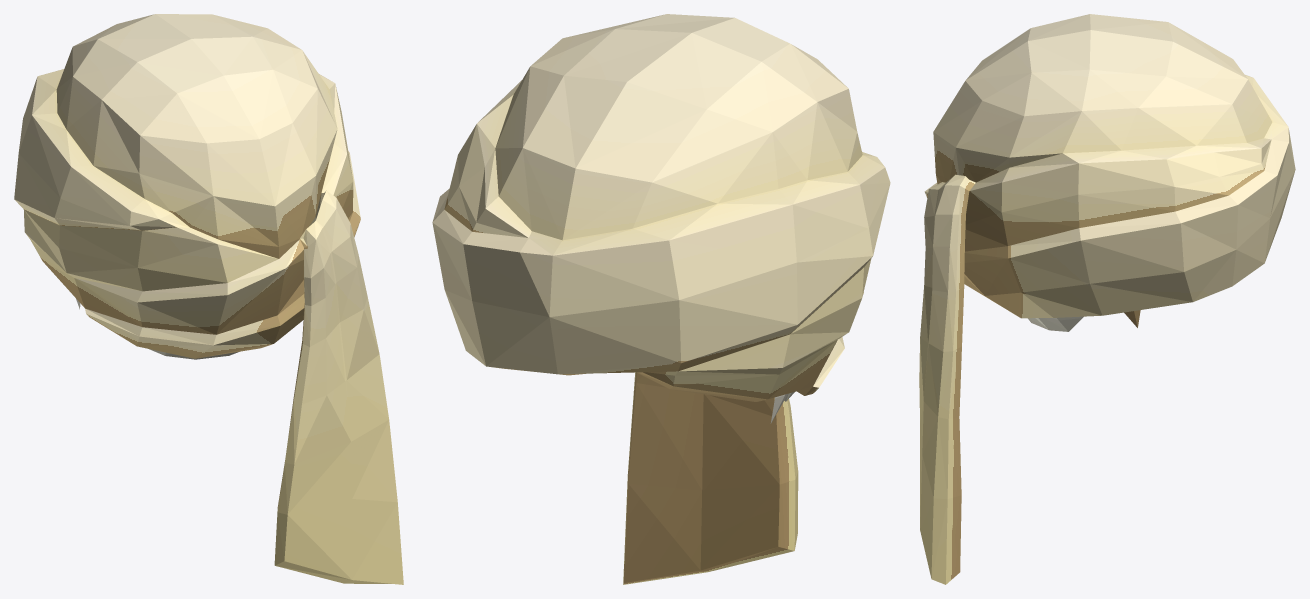
File: CharSkyKid_Hair_AP21Turban.glb
The picture shows the model from 3 angles, left to right: view 1: azimuth 30°, elevation 25°; view 2: azimuth 150°, elevation 25°; view 3: azimuth 270°, elevation 25°; orthographic projection. The views are drawn at different scales.
Parts seen in each view (by area): view 1: CharSkyKid_Hair_AP21Turban; view 2: CharSkyKid_Hair_AP21Turban; view 3: CharSkyKid_Hair_AP21Turban.
Part boxes in pixels (x1=…): CharSkyKid_Hair_AP21Turban: x1=14, y1=14, x2=403, y2=584; CharSkyKid_Hair_AP21Turban: x1=432, y1=14, x2=890, y2=584; CharSkyKid_Hair_AP21Turban: x1=919, y1=14, x2=1295, y2=584.
Bounding box in the file's own units: 3.02 × 5.13 × 3.54.
1 material, 1 textured.
